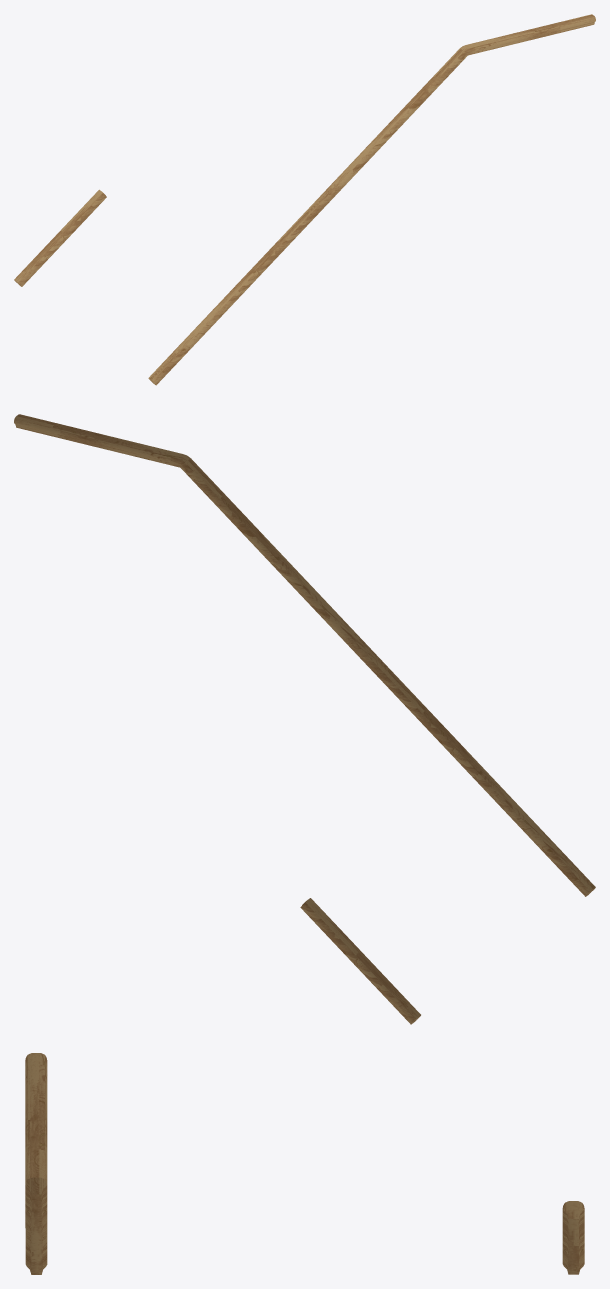
3 views of the same model, one above another, from view 1: azimuth 30°, elevation 25°; view 2: azimuth 150°, elevation 25°; view 3: azimuth 270°, elevation 25° (orthographic). The views are drawn at different scales.
Parts seen in each view (by area): view 1: FP203:Cube.045_a3d876d3; view 2: FP203:Cube.045_a3d876d3; view 3: FP203:Cube.045_a3d876d3.
Part boxes in pixels (bbox=[...]): FP203:Cube.045_a3d876d3: bbox=[14, 14, 595, 385]; FP203:Cube.045_a3d876d3: bbox=[14, 414, 595, 1024]; FP203:Cube.045_a3d876d3: bbox=[25, 1053, 584, 1274].
Size of the model in its own units: 2.48 by 1.4 by 1.35.
